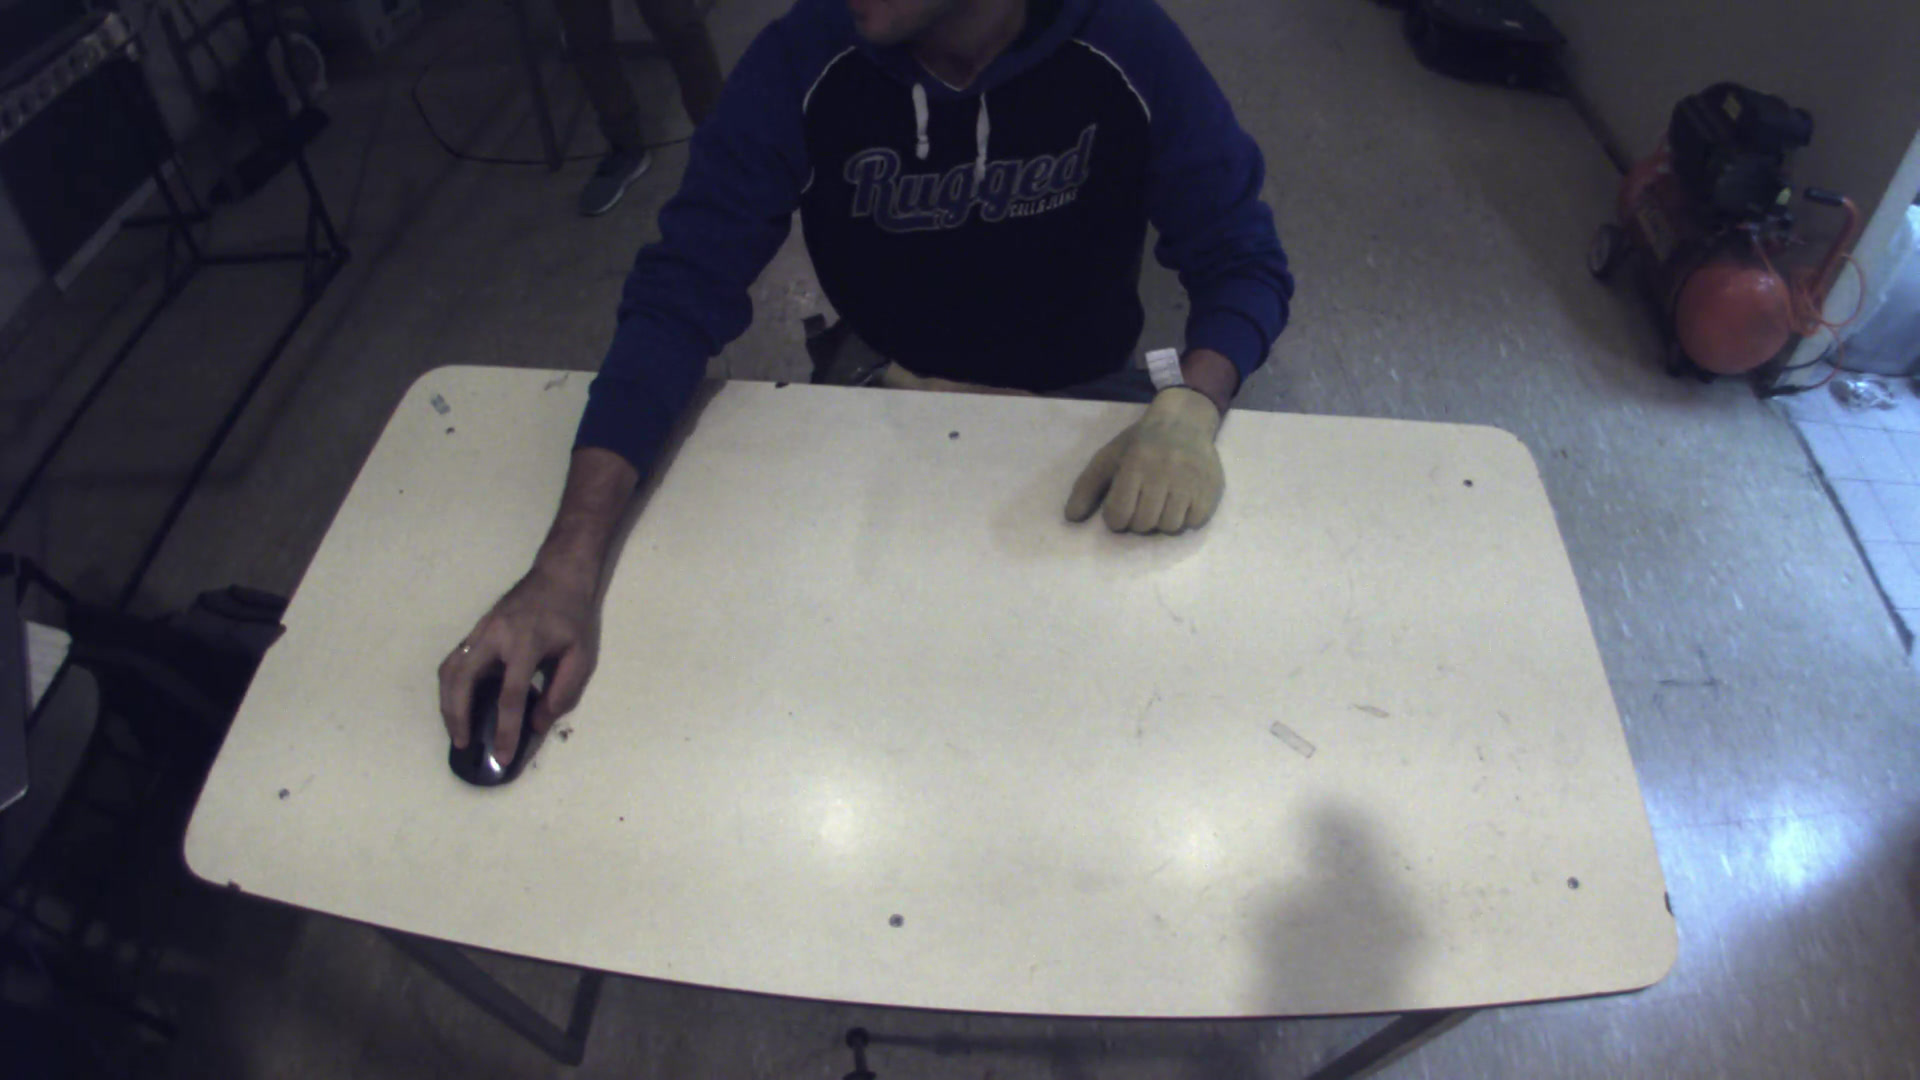hand: (423, 549, 616, 790), (1058, 367, 1242, 537)
